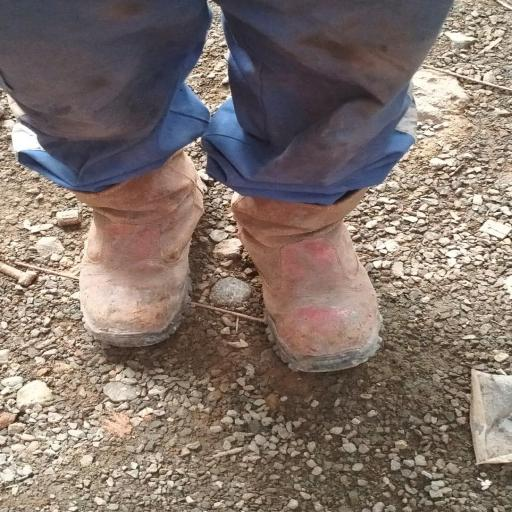safety_shoe: (45, 155, 218, 340), (232, 180, 396, 373)
